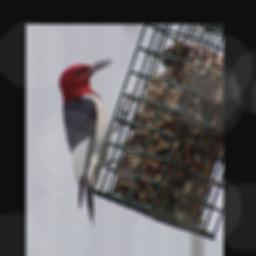Woodpecker: (57, 58, 128, 226)
